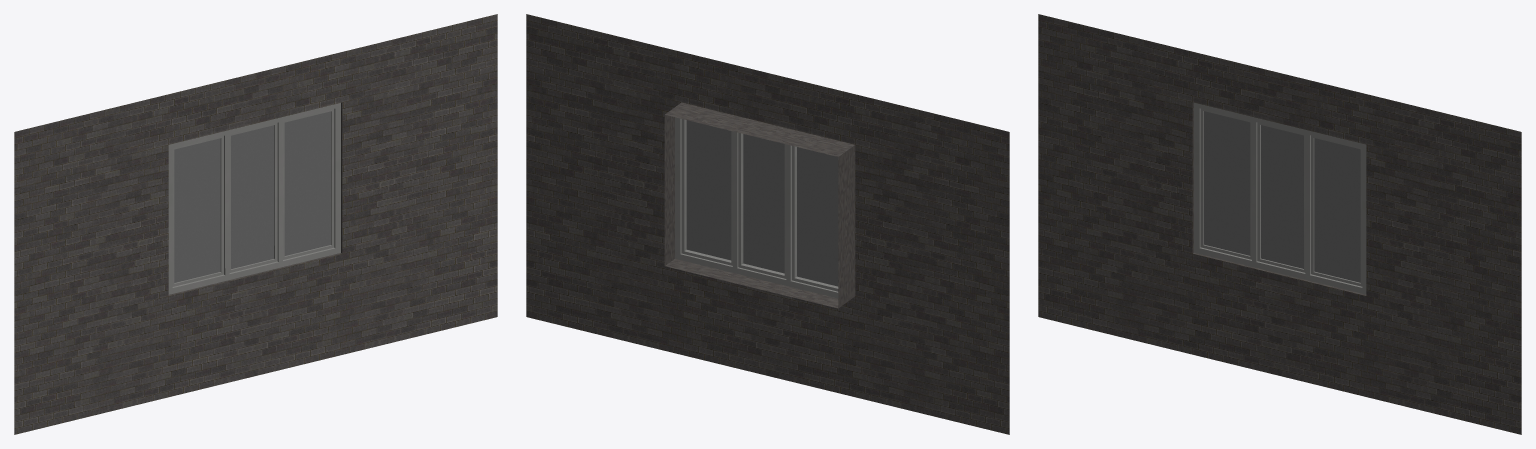
File: Sm_Window02.fbx
The picture shows the model from 3 angles, left to right: view 1: azimuth 30°, elevation 25°; view 2: azimuth 150°, elevation 25°; view 3: azimuth 330°, elevation 25°; orthographic projection.
Parts seen in each view (by area): view 1: Sm_Window02; view 2: Sm_Window02; view 3: Sm_Window02.
Part boxes in pixels (left/top/right/bottom): Sm_Window02: left=14, top=14, right=497, bottom=434; Sm_Window02: left=526, top=14, right=1009, bottom=434; Sm_Window02: left=1038, top=14, right=1521, bottom=434.
Size of the model in its own units: 501 by 30.37 by 300.
Materials: 3 (3 with a texture image).
